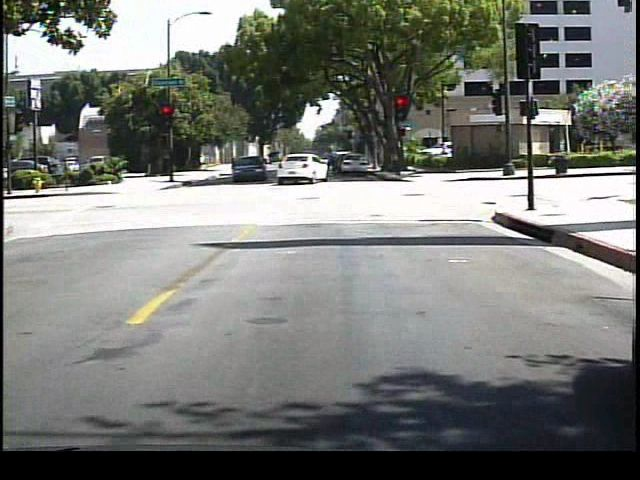person: (321, 145, 339, 183)
